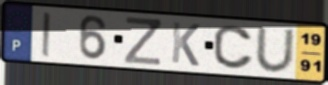6: (78, 14, 109, 61)
C: (212, 24, 256, 71)
I: (40, 10, 53, 59)
K: (169, 20, 202, 68)
U: (253, 26, 296, 74)
Z: (122, 15, 163, 67)
